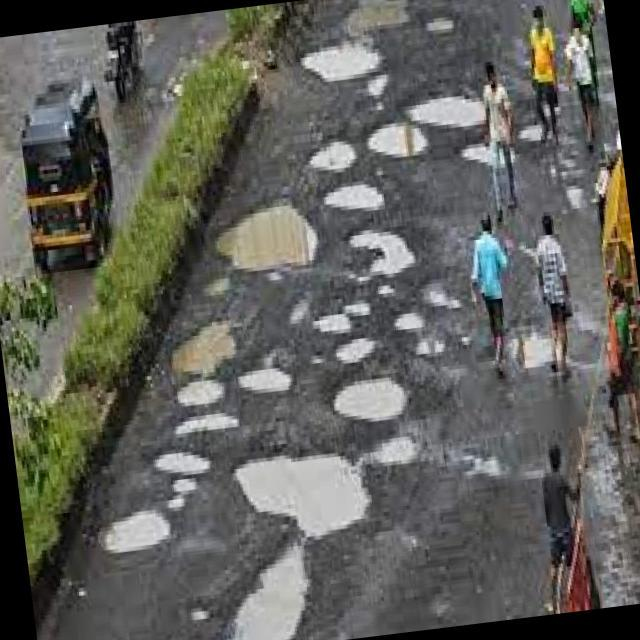Pothole: (233, 456, 368, 537), (229, 545, 308, 640), (216, 205, 317, 272), (334, 377, 406, 424), (103, 510, 171, 553), (172, 324, 231, 372), (369, 120, 426, 153), (156, 441, 212, 471), (324, 184, 381, 209)
